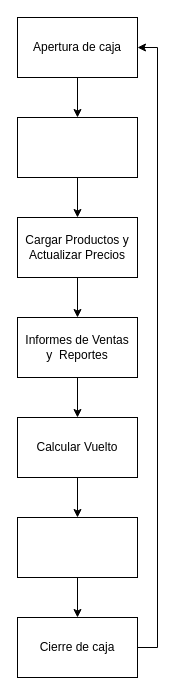
Image size: 183x695. Some labels were removed from this diagram. The centre of each missing label's shape, as x and y in pixels:
Administrar (Atencion al cliente): the point at 77,147
Finalizar Venta: the point at 77,547
